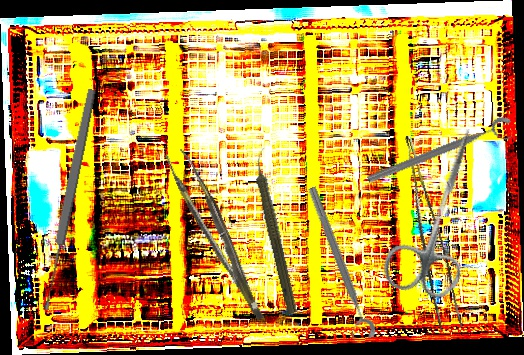Fixation Ring: (295, 184, 378, 345), (364, 114, 518, 195)
Handpiece: (246, 147, 305, 315)
Iris Scissors: (377, 116, 504, 306)
Surgical Spoon: (38, 88, 99, 311)
Tissue Forceps: (165, 144, 264, 329), (383, 135, 469, 333)
